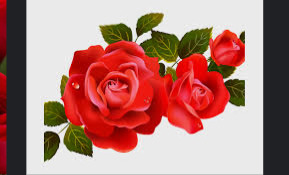RedRose: (62, 40, 169, 155), (167, 54, 231, 133)
